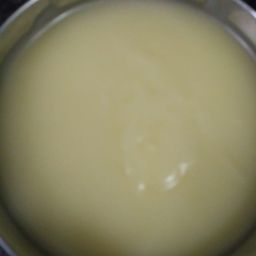Clarified Butter(ghee): (20, 36, 247, 256), (97, 8, 207, 248), (44, 80, 229, 216)
